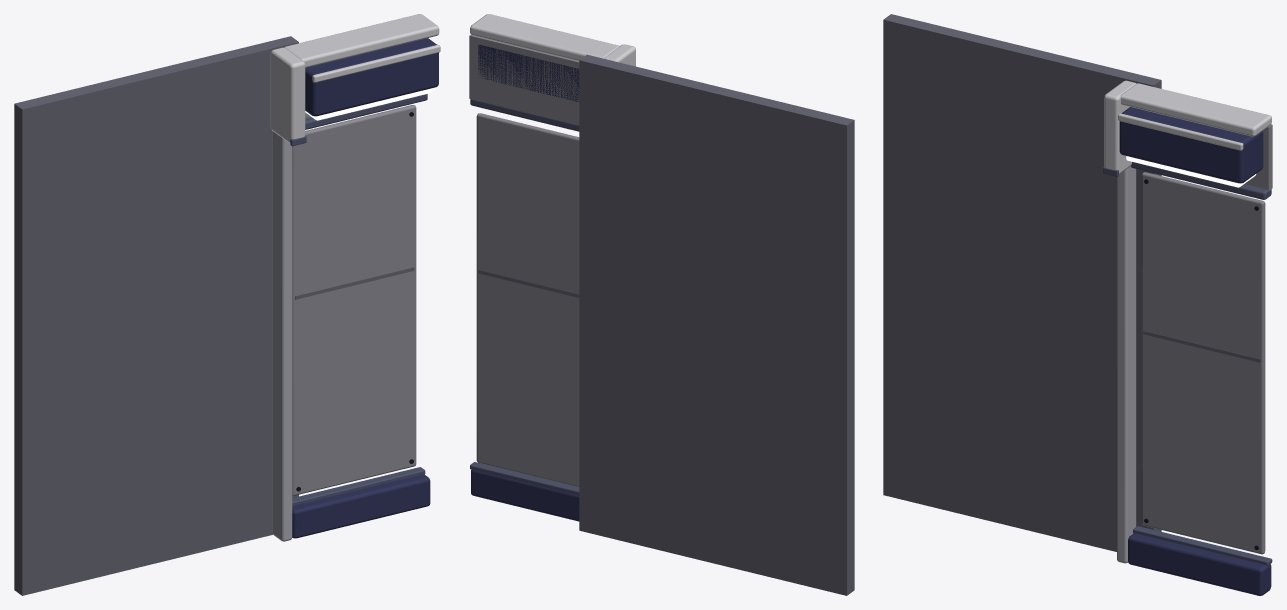
Rendered from int.wallbay.far.13.w1.glb.
The picture shows the model from 3 angles, left to right: view 1: azimuth 30°, elevation 25°; view 2: azimuth 150°, elevation 25°; view 3: azimuth 330°, elevation 25°; orthographic projection. The views are drawn at different scales.
Visible parts, largest first — view 1: int.wallbay.far.13.w1; view 2: int.wallbay.far.13.w1; view 3: int.wallbay.far.13.w1.
Boxes of the visible parts, x1,y1,x2,y2 form: int.wallbay.far.13.w1: [14, 14, 440, 595]; int.wallbay.far.13.w1: [469, 14, 854, 595]; int.wallbay.far.13.w1: [883, 14, 1272, 595].
Size of the model in its own units: 1.44 by 1.68 by 0.214.
